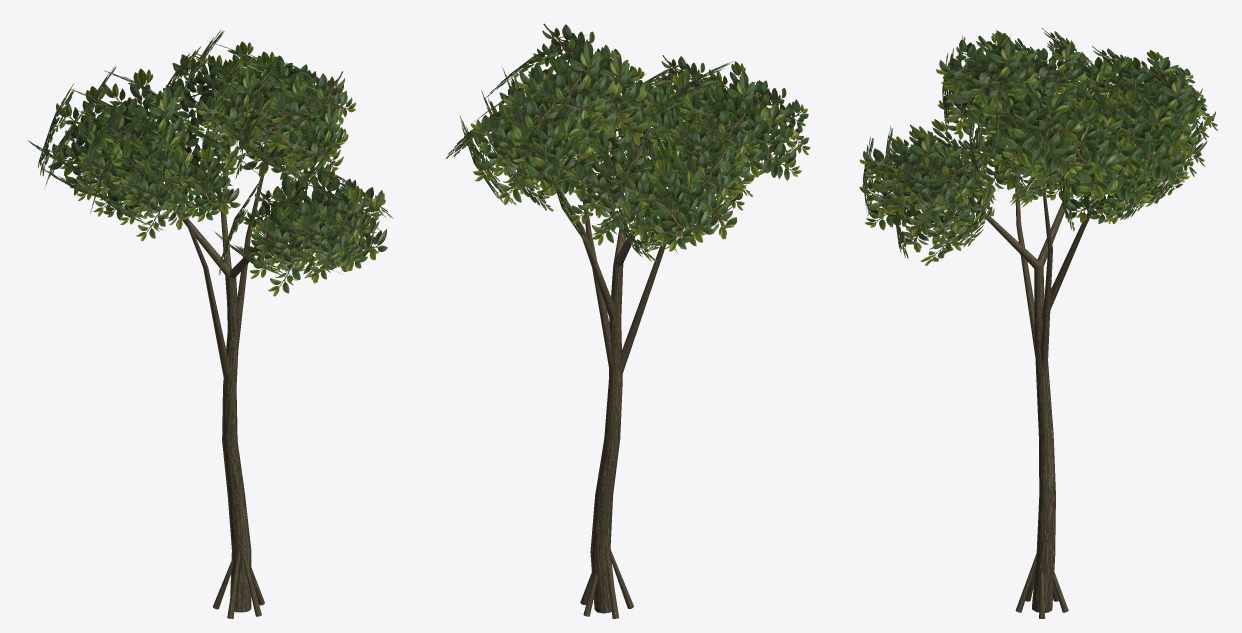
The model's file is tree_lod_02.glb.
The picture shows the model from 3 angles, left to right: view 1: azimuth 30°, elevation 25°; view 2: azimuth 150°, elevation 25°; view 3: azimuth 270°, elevation 25°; orthographic projection. The views are drawn at different scales.
Parts seen in each view (by area): view 1: tree_lod_02; view 2: tree_lod_02; view 3: tree_lod_02.
Boxes of the visible parts, left/top/right/bottom form: tree_lod_02: left=28, top=29, right=393, bottom=618; tree_lod_02: left=445, top=23, right=810, bottom=618; tree_lod_02: left=859, top=28, right=1217, bottom=618.
Bounding box in the file's own units: 7.11 × 12.87 × 8.06.
2 materials, 2 textured.
